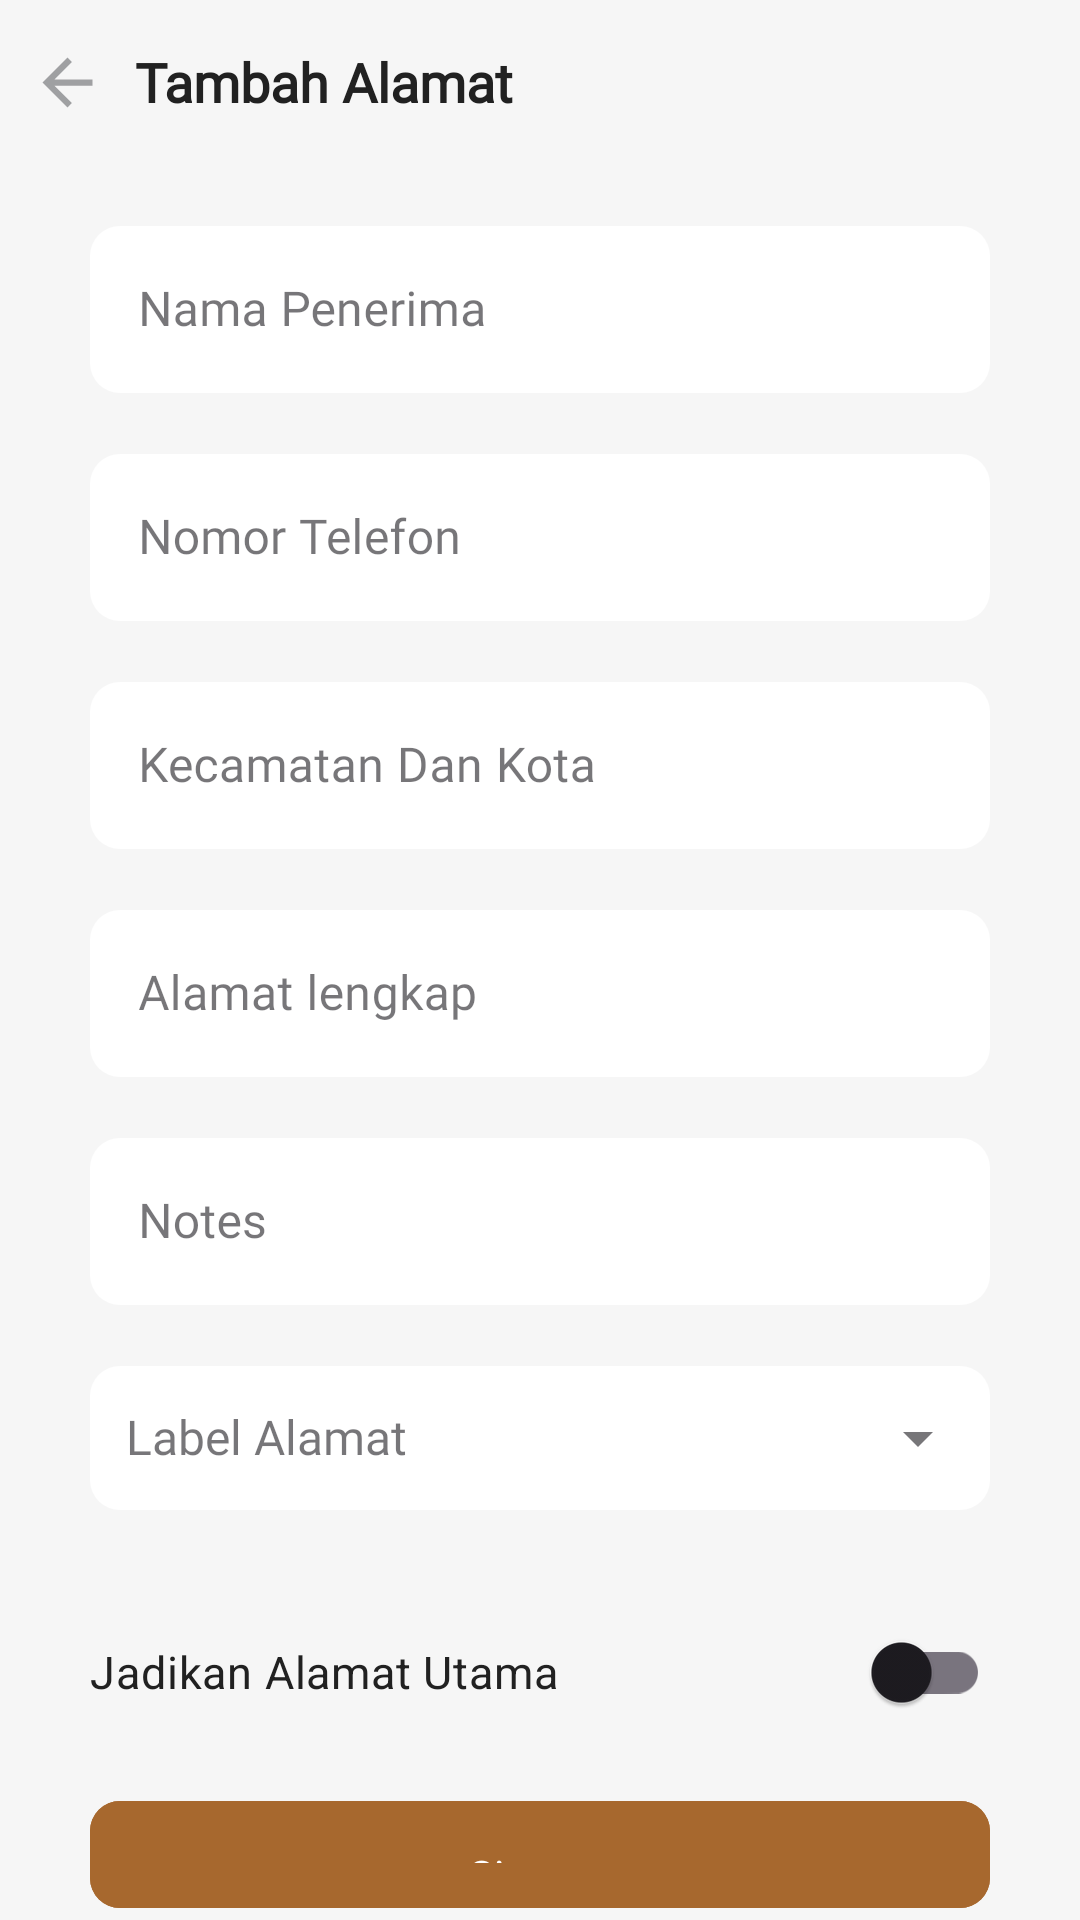

Where to tap for icons on this 1080*1920 app screen, as (x,y):
back: (68,82)
